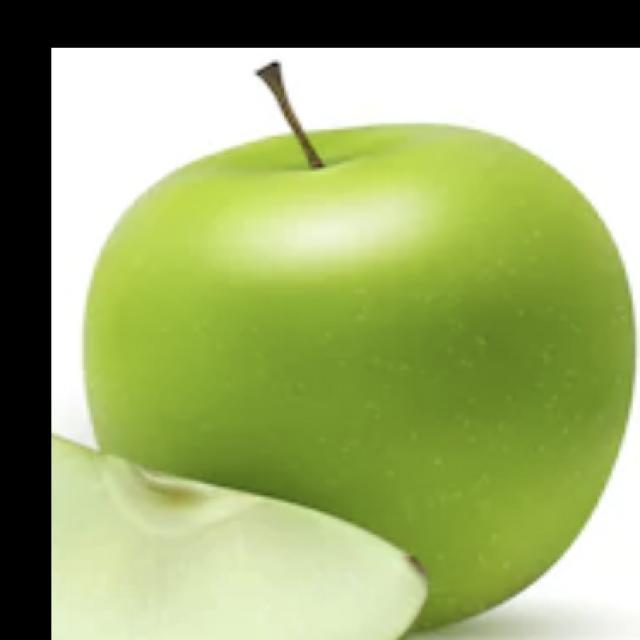Fresh Apple: (115, 135, 622, 598)
